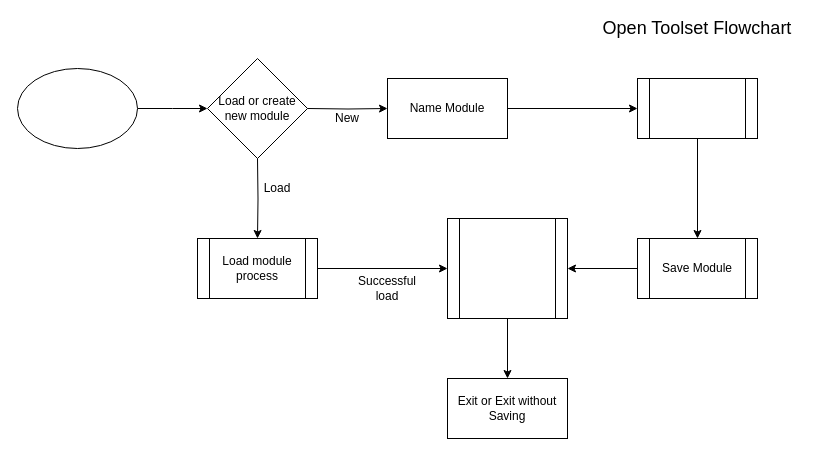
Image size: 835x456. Some labels were removed from this diagram. The shapes that lost their labels are listed below. From the top down, each one's centre as x and y in pixels, then its label:
At pixel 77 108: "Open Toolset".
At pixel 697 108: "Wizard prompts user to load template".
At pixel 507 268: "Load Toolset UI".
